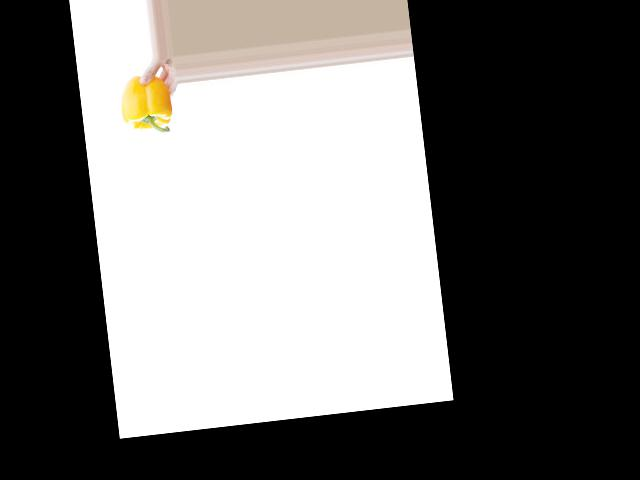bell_pepper: (116, 71, 174, 140)
